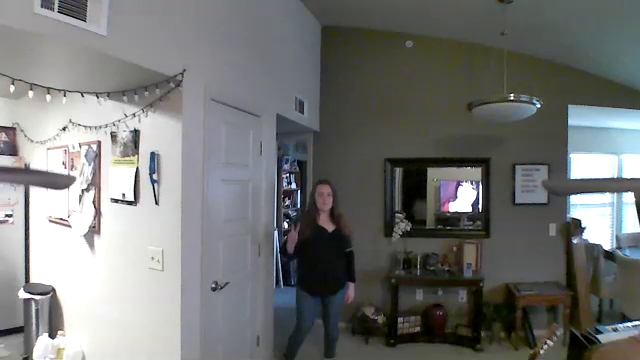peace: (282, 219, 306, 251)
